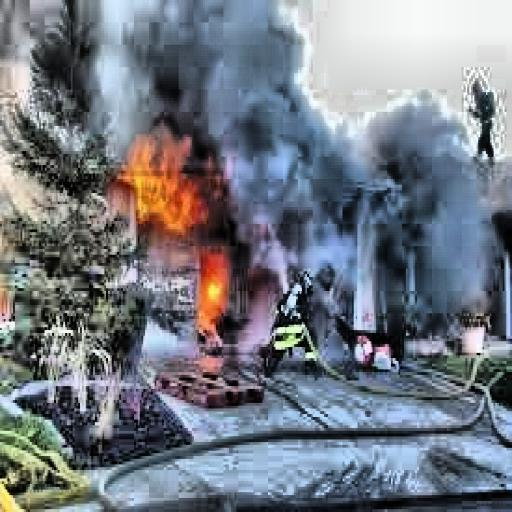fire: (114, 120, 216, 244), (182, 246, 248, 353)
